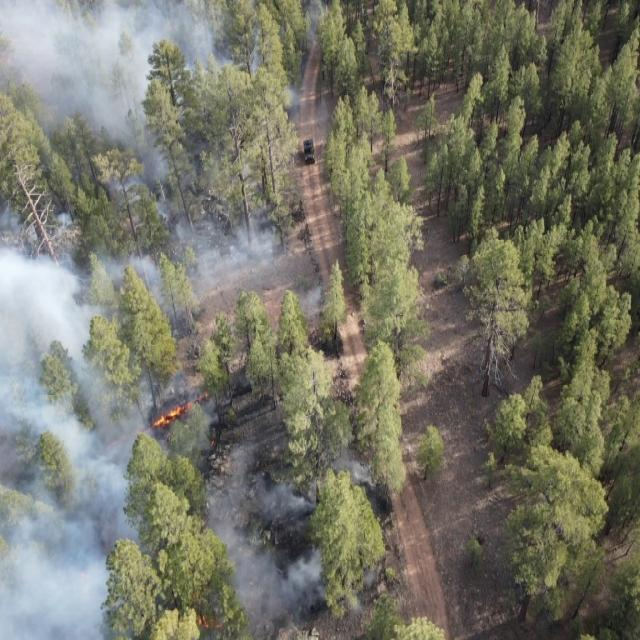fire: (102, 388, 218, 450), (188, 594, 224, 632), (78, 570, 87, 578)
smoke: (0, 390, 384, 640), (0, 0, 331, 192), (0, 192, 281, 389), (282, 244, 324, 324)
